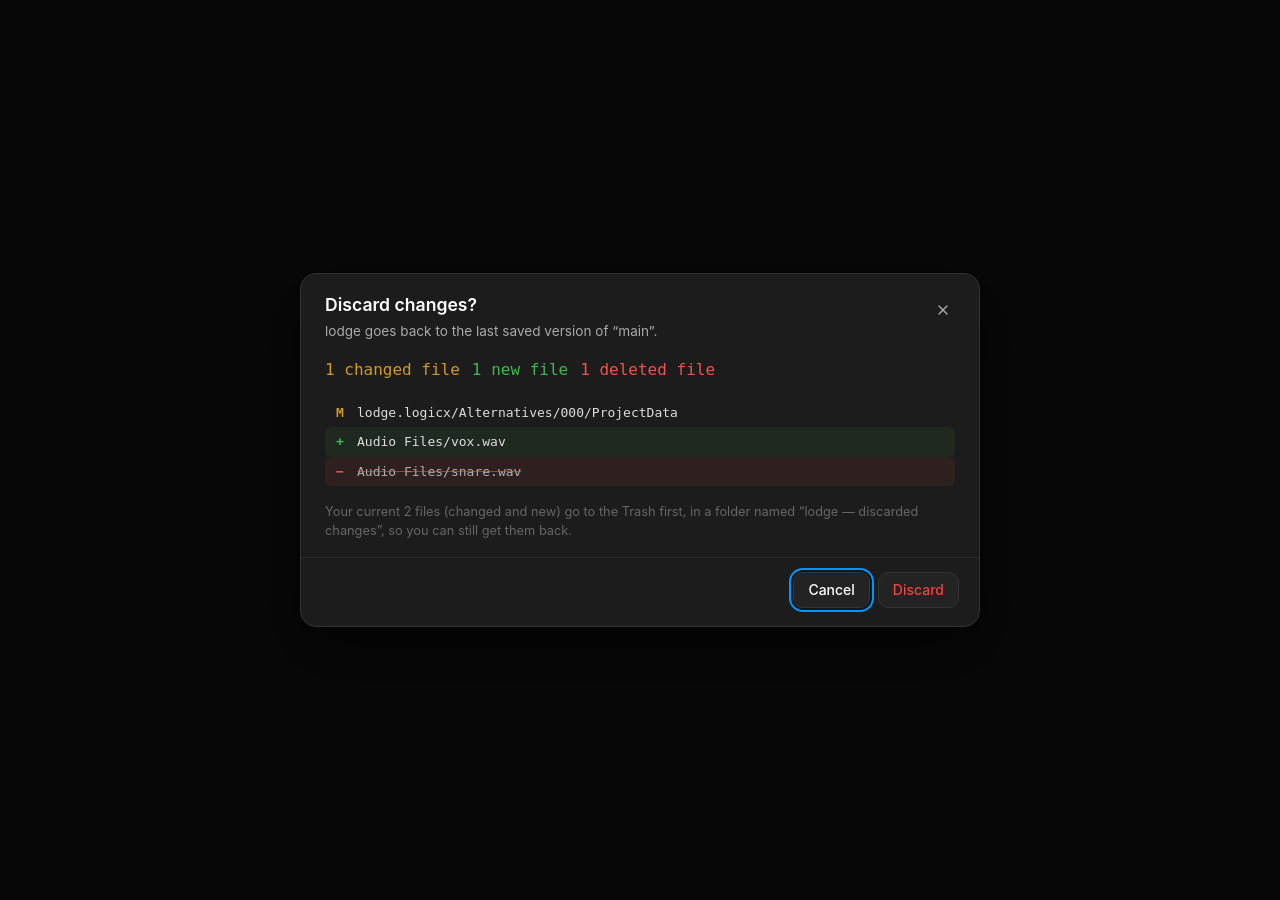
it: DiscardChangesDialog › Discard runs it and shows a failure in the dialog
The image size is (1280, 900).
Click the button "Discard" at (918, 590), box [878, 572, 959, 608]
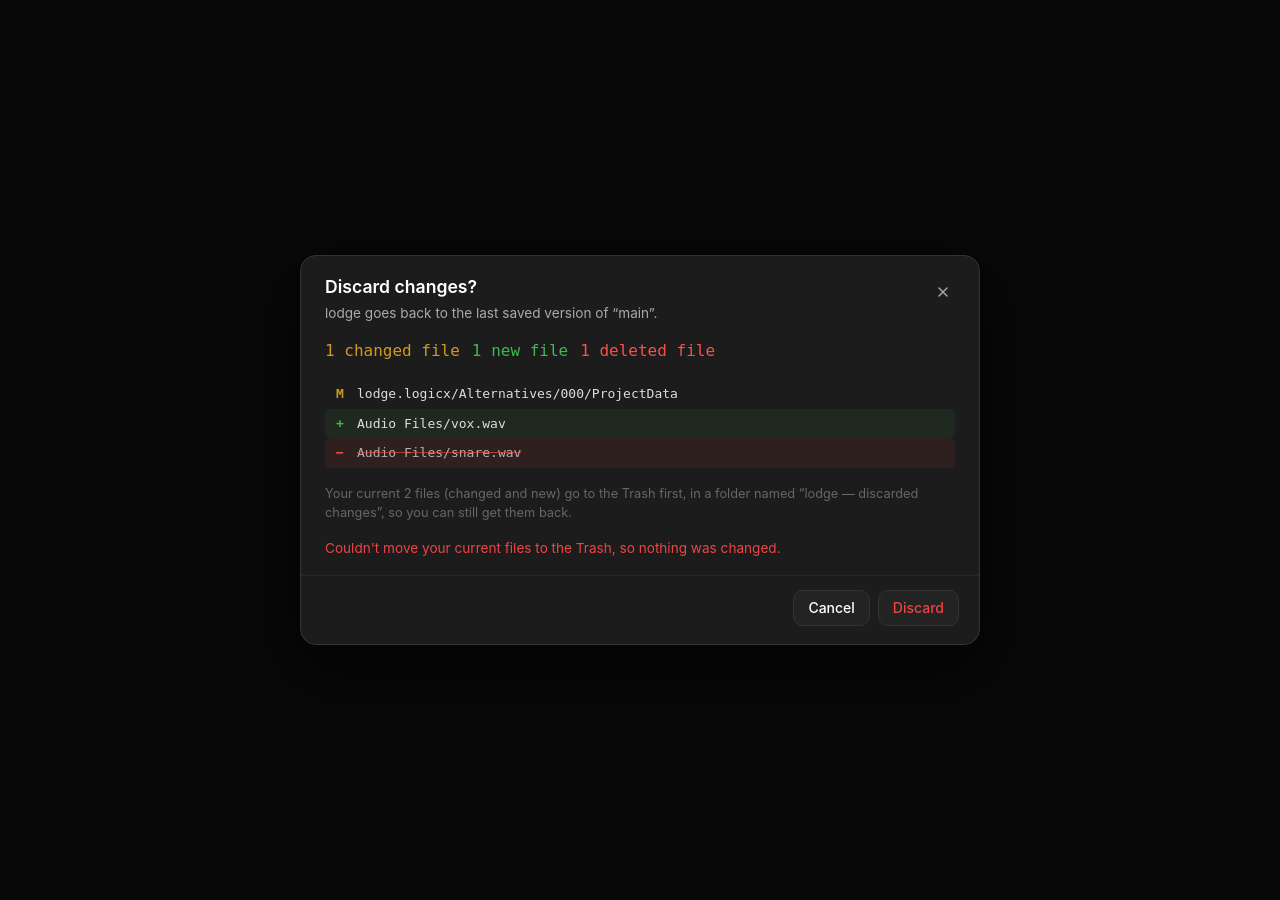
Expected: the button "Discard" is enabled, [878, 590, 959, 626]
Now the text "Couldn't move your current files to the Trash, so nothing was changed." is shown, box [325, 540, 781, 556]
